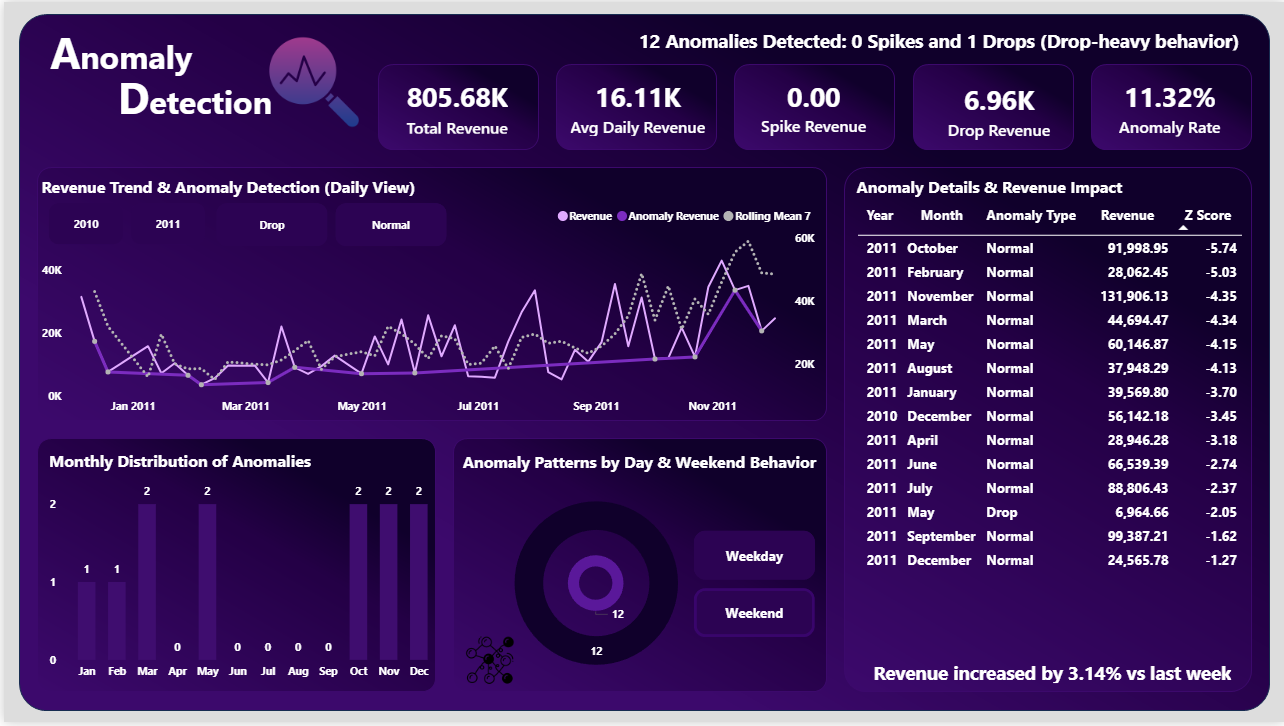

Layout of this report page (visuals, bound fields, positions):
{"tool":"powerbi","page":{"name":"Time-Series Analysis","canvas":[1280,720],"ordinal":0},"visuals":[{"type":"image","box":[448.8,633.8,73.8,48.8],"z":0},{"type":"lineChart","title":"Revenue Trend & Anomaly Detection (Daily View)","fields":{"Y":["Sum(daily_anomaly_data.Revenue)","daily_anomaly_data.Anomaly Revenue"],"Category":["Date_Dim.Date.Variation.Date Hierarchy.Year","Date_Dim.Date.Variation.Date Hierarchy.Month","Date_Dim.Date.Variation.Date Hierarchy.Day"],"Y2":["Sum(daily_anomaly_data.Rolling_Mean_7)"]},"box":[32.5,173.8,783.8,247.5],"z":1000},{"type":"advancedSlicerVisual","fields":{"Values":["Date_Dim.Year"]},"box":[40,196.2,167.5,51.2],"z":2000},{"type":"donutChart","fields":{"Y":["_Measueres.Total Anomalies"],"Category":["Date_Dim.Day Name"]},"box":[432.5,463.8,320,235],"z":3000},{"type":"cardVisual","fields":{"Data":["_Measueres.Total Revenue"]},"box":[371.4,64.3,164.3,85.7],"z":4000},{"type":"advancedSlicerVisual","fields":{"Values":["Date_Dim.Weekend_Label"]},"box":[685,523.8,131.2,117.5],"z":5000},{"type":"cardVisual","fields":{"Data":["_Measueres.Anomaly Insight"]},"box":[602.9,8.6,665.7,57.1],"z":6000},{"type":"advancedSlicerVisual","fields":{"Values":["daily_anomaly_data.Anomaly_Type"]},"box":[207.5,196.2,241.2,53.8],"z":7000},{"type":"cardVisual","fields":{"Data":["_Measueres.Avg Daily Revenue"]},"box":[535.7,60,195.7,91.4],"z":8000},{"type":"cardVisual","fields":{"Data":["daily_anomaly_data.Spike Revenue"]},"box":[725.7,57.1,167.1,95.7],"z":9000},{"type":"tableEx","title":"Anomaly Details & Revenue Impact ","fields":{"Values":["Date_Dim.Date.Variation.Date Hierarchy.Year","Date_Dim.Date.Variation.Date Hierarchy.Month","daily_anomaly_data.Anomaly_Type","Sum(daily_anomaly_data.Revenue)","Sum(daily_anomaly_data.Z_Score)"]},"box":[847.1,174.3,401.4,508.6],"z":10000},{"type":"columnChart","title":"Monthly Distribution of Anomalies","fields":{"Y":["_Measueres.Total Anomalies"],"Category":["Date_Dim.Month"]},"box":[40,447.1,401.4,238.6],"z":11000},{"type":"cardVisual","fields":{"Data":["_Measueres.Anomaly Rate"]},"box":[1084.3,55.7,164.3,98.6],"z":12000},{"type":"cardVisual","fields":{"Data":["daily_anomaly_data.Drop Revenue"]},"box":[912.9,61.4,165.7,94.3],"z":13000},{"type":"donutChart","fields":{"Category":["Date_Dim.Weekend_Label"],"Y":["_Measueres.Total Anomalies"]},"box":[538.8,536.2,106.2,90],"z":14000},{"type":"cardVisual","fields":{"Data":["_Measueres.Revenue WoW Insight"]},"box":[840,641.4,417.1,57.1],"z":15000},{"type":"textbox","box":[454.3,444.3,378.6,38.6],"z":16000},{"type":"textbox","box":[41.2,16.2,172.5,67.5],"z":17000},{"type":"textbox","box":[108.8,61.2,180,71.2],"z":18000},{"type":"image","box":[255,30,108.8,100],"z":19000}]}

Visuals, with their boxes in screenshot pixels (x1, y1, x2, y2), scaled from the page's 1280x720 canvas onto the 1284x726 screenshot:
image: rect(450, 639, 524, 688)
"Revenue Trend & Anomaly Detection (Daily View)" lineChart: rect(33, 175, 819, 425)
advancedSlicerVisual - Date_Dim.Year: rect(40, 198, 208, 249)
donutChart - _Measueres.Total Anomalies x Date_Dim.Day Name: rect(434, 468, 755, 705)
cardVisual - _Measueres.Total Revenue: rect(373, 65, 537, 151)
advancedSlicerVisual - Date_Dim.Weekend_Label: rect(687, 528, 819, 647)
cardVisual - _Measueres.Anomaly Insight: rect(605, 9, 1273, 66)
advancedSlicerVisual - daily_anomaly_data.Anomaly_Type: rect(208, 198, 450, 252)
cardVisual - _Measueres.Avg Daily Revenue: rect(537, 60, 734, 153)
cardVisual - daily_anomaly_data.Spike Revenue: rect(728, 58, 896, 154)
"Anomaly Details & Revenue Impact " tableEx: rect(850, 176, 1252, 689)
"Monthly Distribution of Anomalies" columnChart: rect(40, 451, 443, 691)
cardVisual - _Measueres.Anomaly Rate: rect(1088, 56, 1253, 156)
cardVisual - daily_anomaly_data.Drop Revenue: rect(916, 62, 1082, 157)
donutChart - Date_Dim.Weekend_Label x _Measueres.Total Anomalies: rect(540, 541, 647, 631)
cardVisual - _Measueres.Revenue WoW Insight: rect(843, 647, 1261, 704)
textbox: rect(456, 448, 836, 487)
textbox: rect(41, 16, 214, 84)
textbox: rect(109, 62, 290, 134)
image: rect(256, 30, 365, 131)
